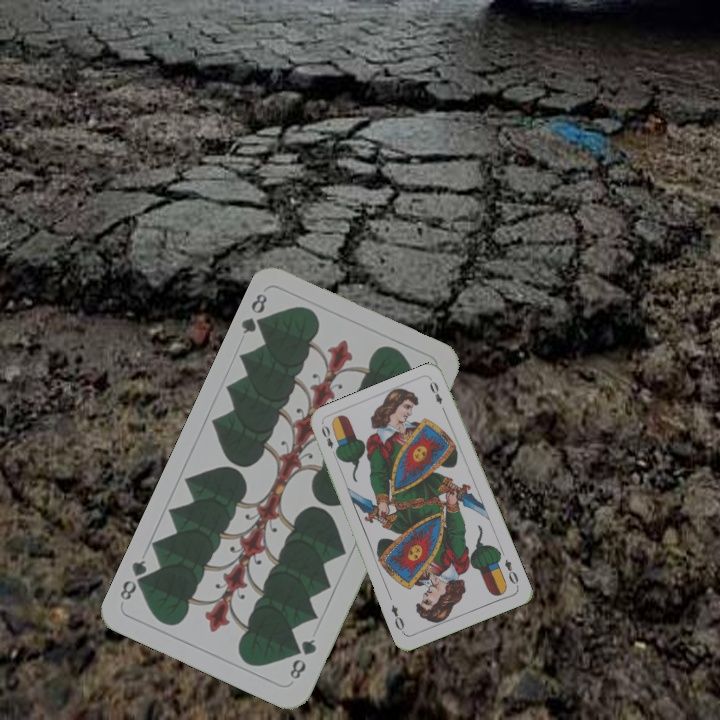EO: (317, 421, 340, 460), (500, 555, 521, 590)
G8: (237, 289, 272, 337), (285, 634, 319, 682)
